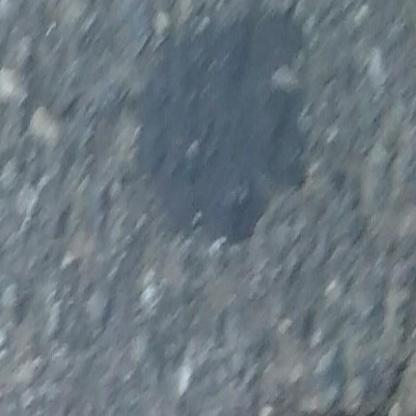Cracks: (239, 314, 416, 416)
